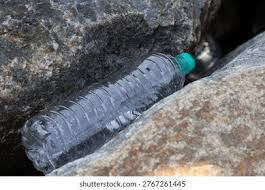Botella: (21, 52, 195, 172)
